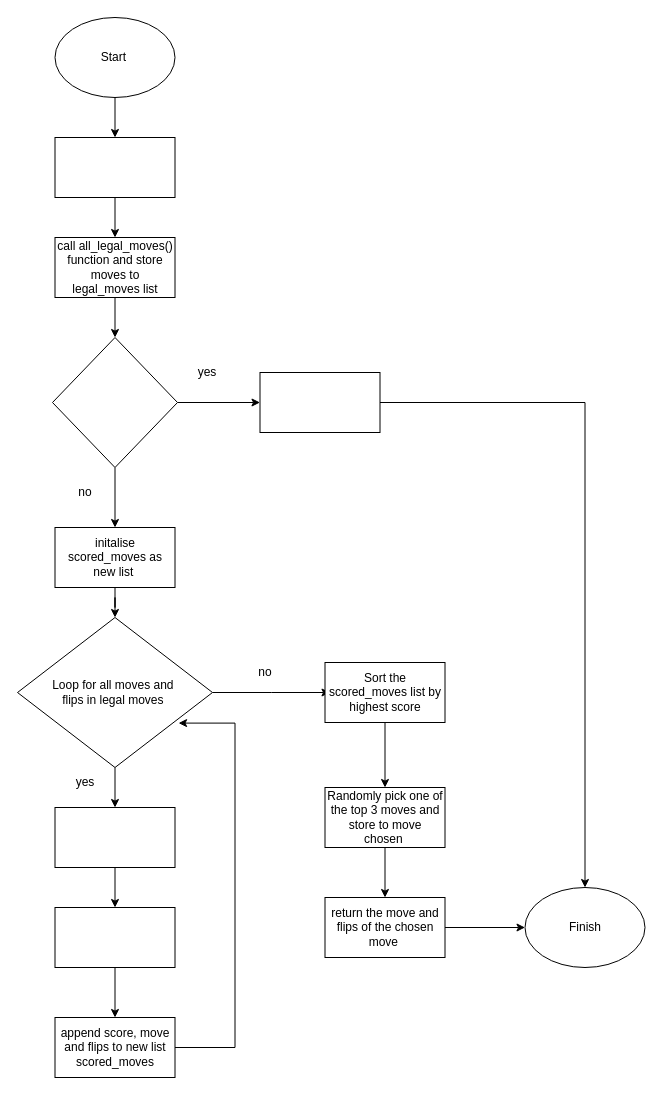
Image size: 663x1095. Some labels were removed from this diagram. The box of each missing label's shape, as (x1, y1, x2, y2) in pixels:
Call evaluate_board() function and store the returned value as a score: (54, 906, 175, 968)
Call simulate_moves() fucntion and save output to simulated: (54, 806, 175, 868)
Initialise pick_ai_move() that takes board and colour as arguments: (54, 136, 175, 198)
is legal_move empty: (52, 336, 178, 468)
return nothing: (259, 372, 380, 432)
